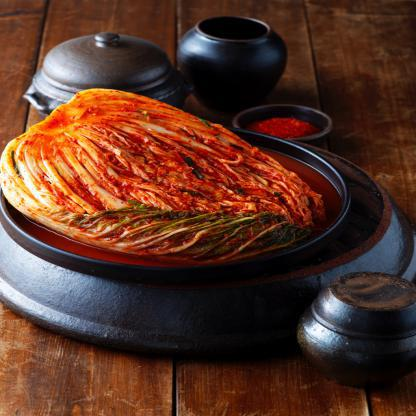kimchi: (5, 78, 338, 270)
